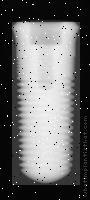Implant Direct: (12, 22, 80, 185)
